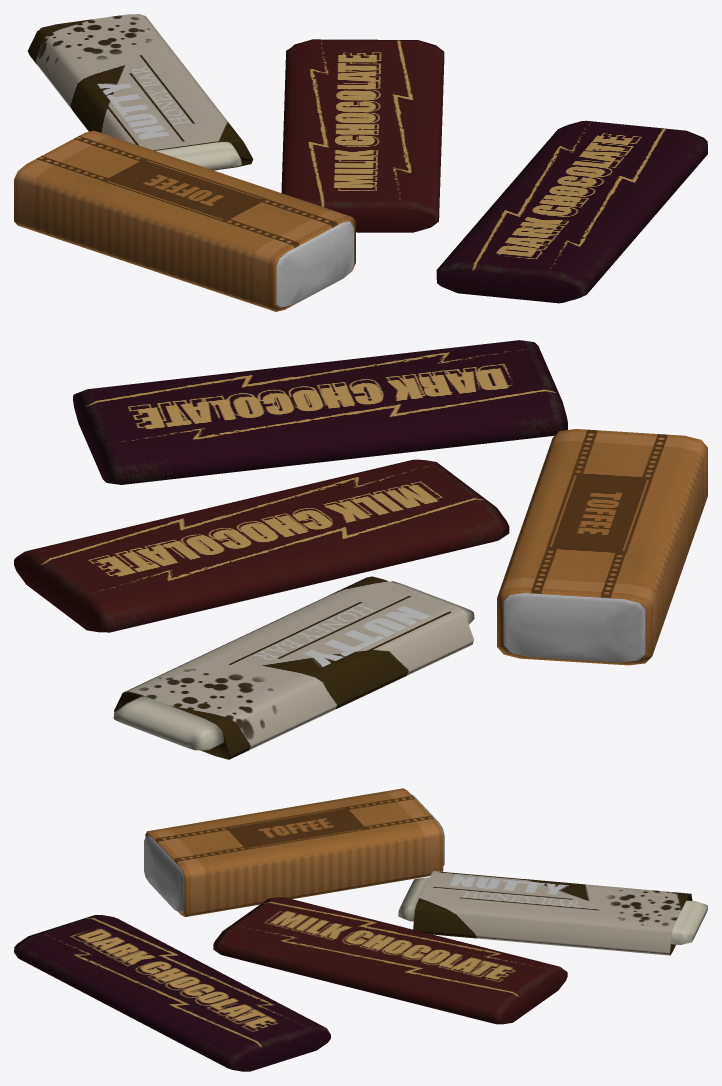
Rendered from candy_bars.glb.
3 renders of one model, top to bottom at view 1: azimuth 30°, elevation 25°; view 2: azimuth 150°, elevation 25°; view 3: azimuth 270°, elevation 25°, orthographic. The views are drawn at different scales.
Parts seen in each view (by area): view 1: HistoricalAssets_JonesV___Copy:HistoricalAssets_JonesV:pCube (×3), pCube19; view 2: HistoricalAssets_JonesV___Copy:HistoricalAssets_JonesV:pCube (×3), pCube19; view 3: HistoricalAssets_JonesV___Copy:HistoricalAssets_JonesV:pCube (×3), pCube19.
Part boxes in pixels (x1,y1,x2,y2): HistoricalAssets_JonesV___Copy:HistoricalAssets_JonesV:pCube (×3): [14, 14, 444, 311]; pCube19: [436, 120, 707, 303]; HistoricalAssets_JonesV___Copy:HistoricalAssets_JonesV:pCube (×3): [14, 429, 707, 759]; pCube19: [73, 340, 567, 484]; HistoricalAssets_JonesV___Copy:HistoricalAssets_JonesV:pCube (×3): [144, 788, 707, 1024]; pCube19: [14, 915, 330, 1071].
Size of the model in its own units: 23.89 by 2.57 by 28.8.
4 materials, 4 textured.
